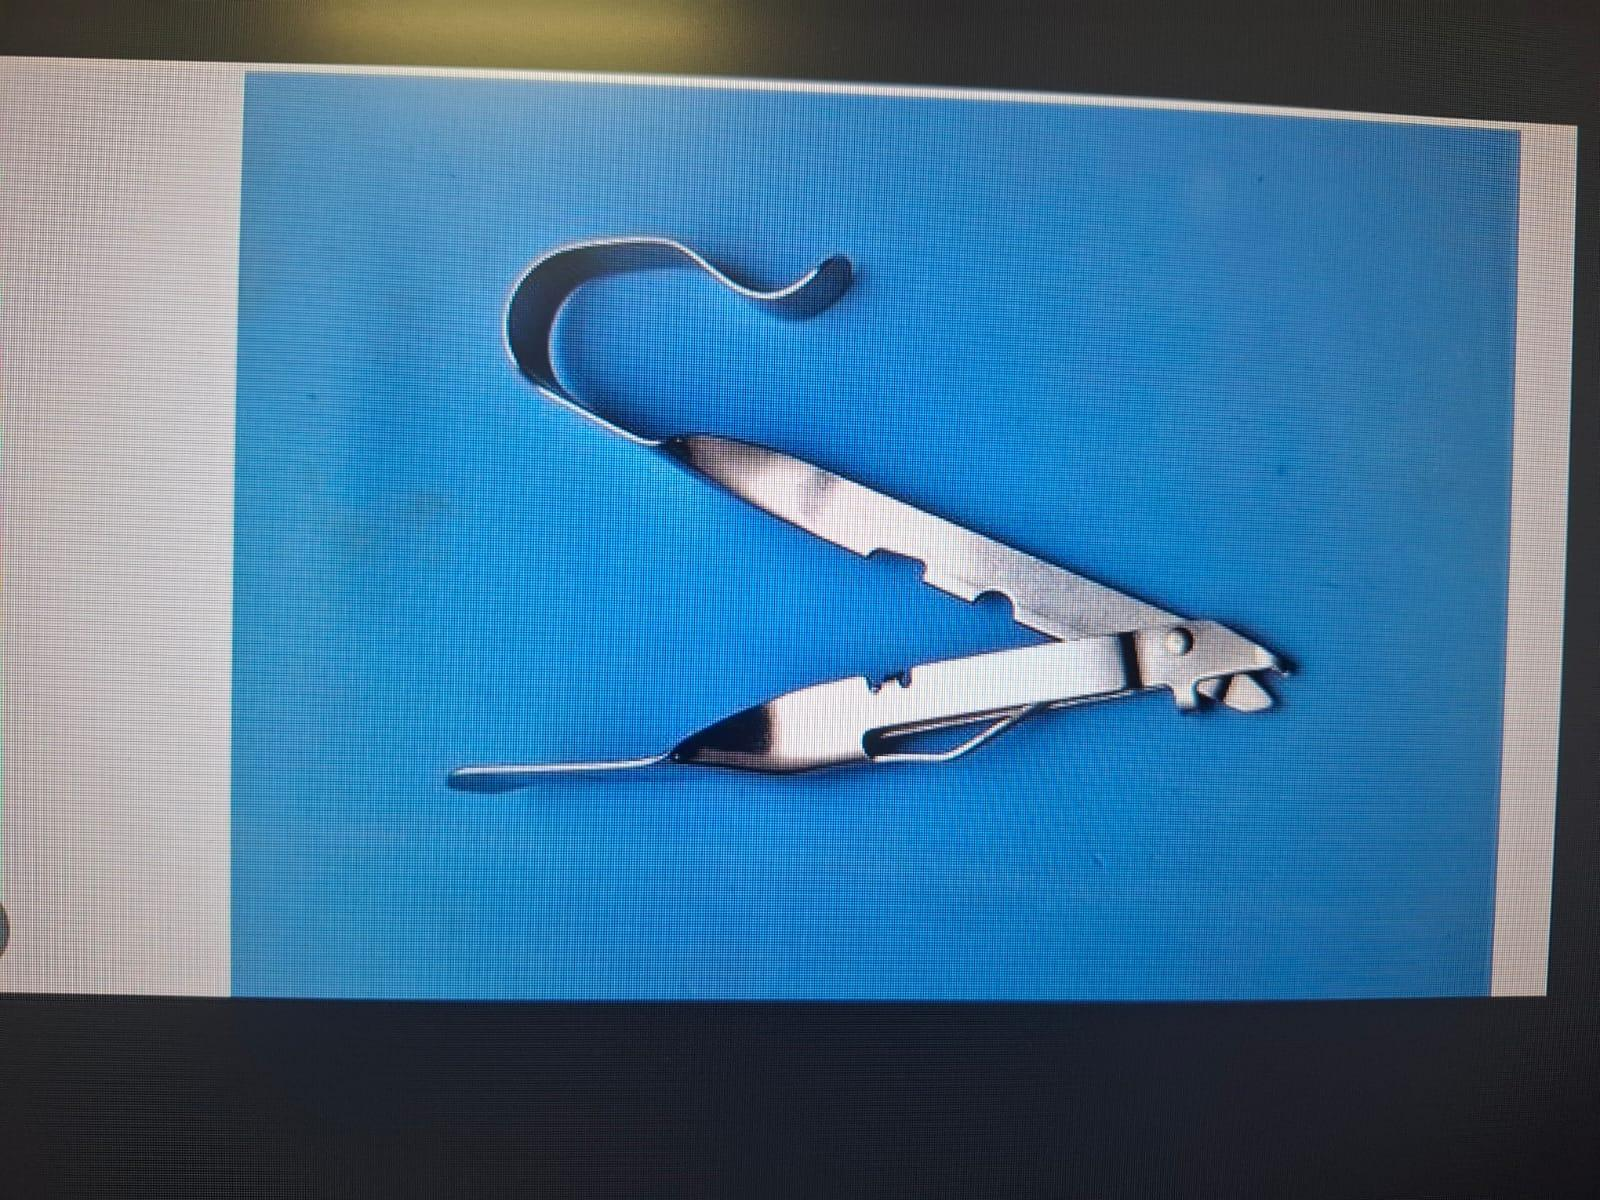Stapler Remover: (432, 212, 1310, 798)
